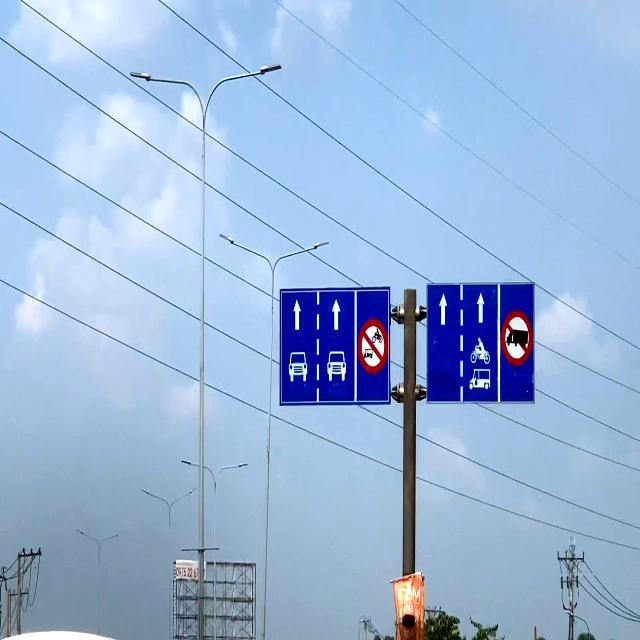P.106a: (502, 309, 534, 365)
